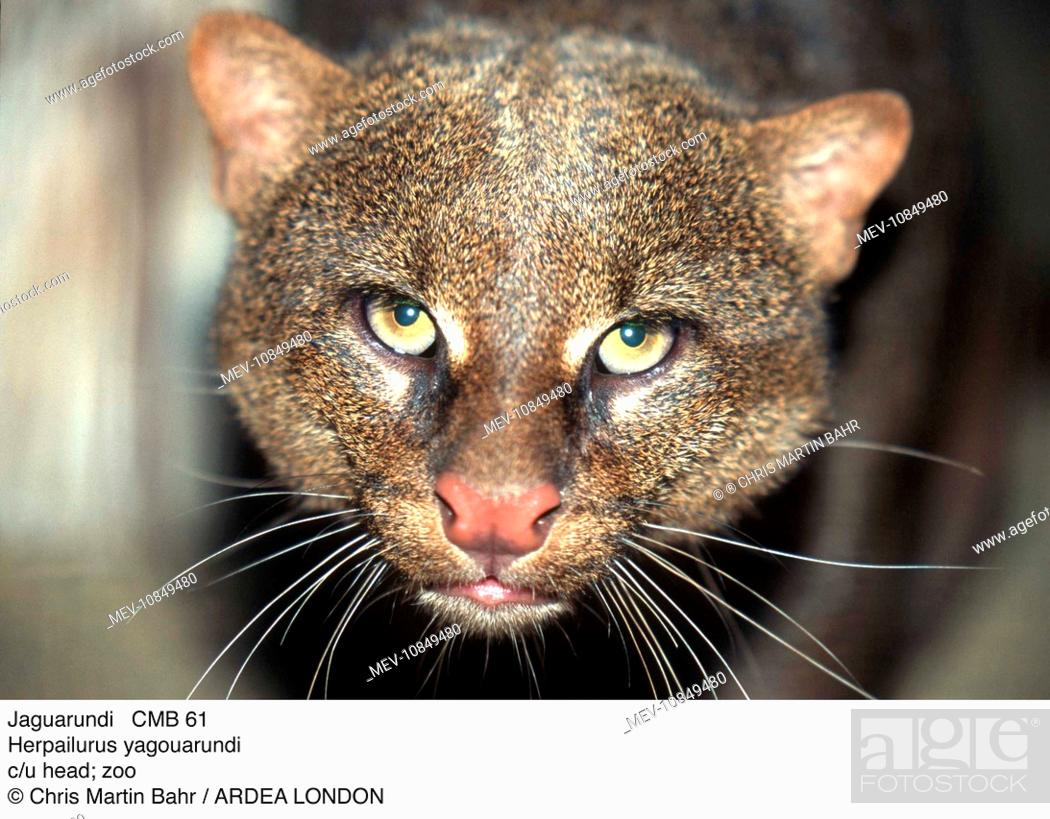Jaguarundi: (178, 3, 893, 635)
